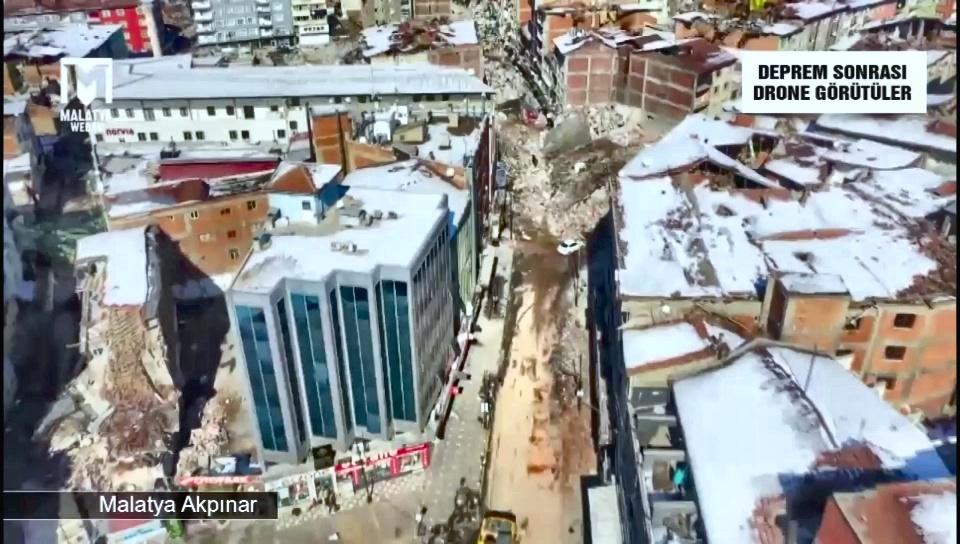kapali: (497, 105, 580, 277), (476, 22, 538, 106)
